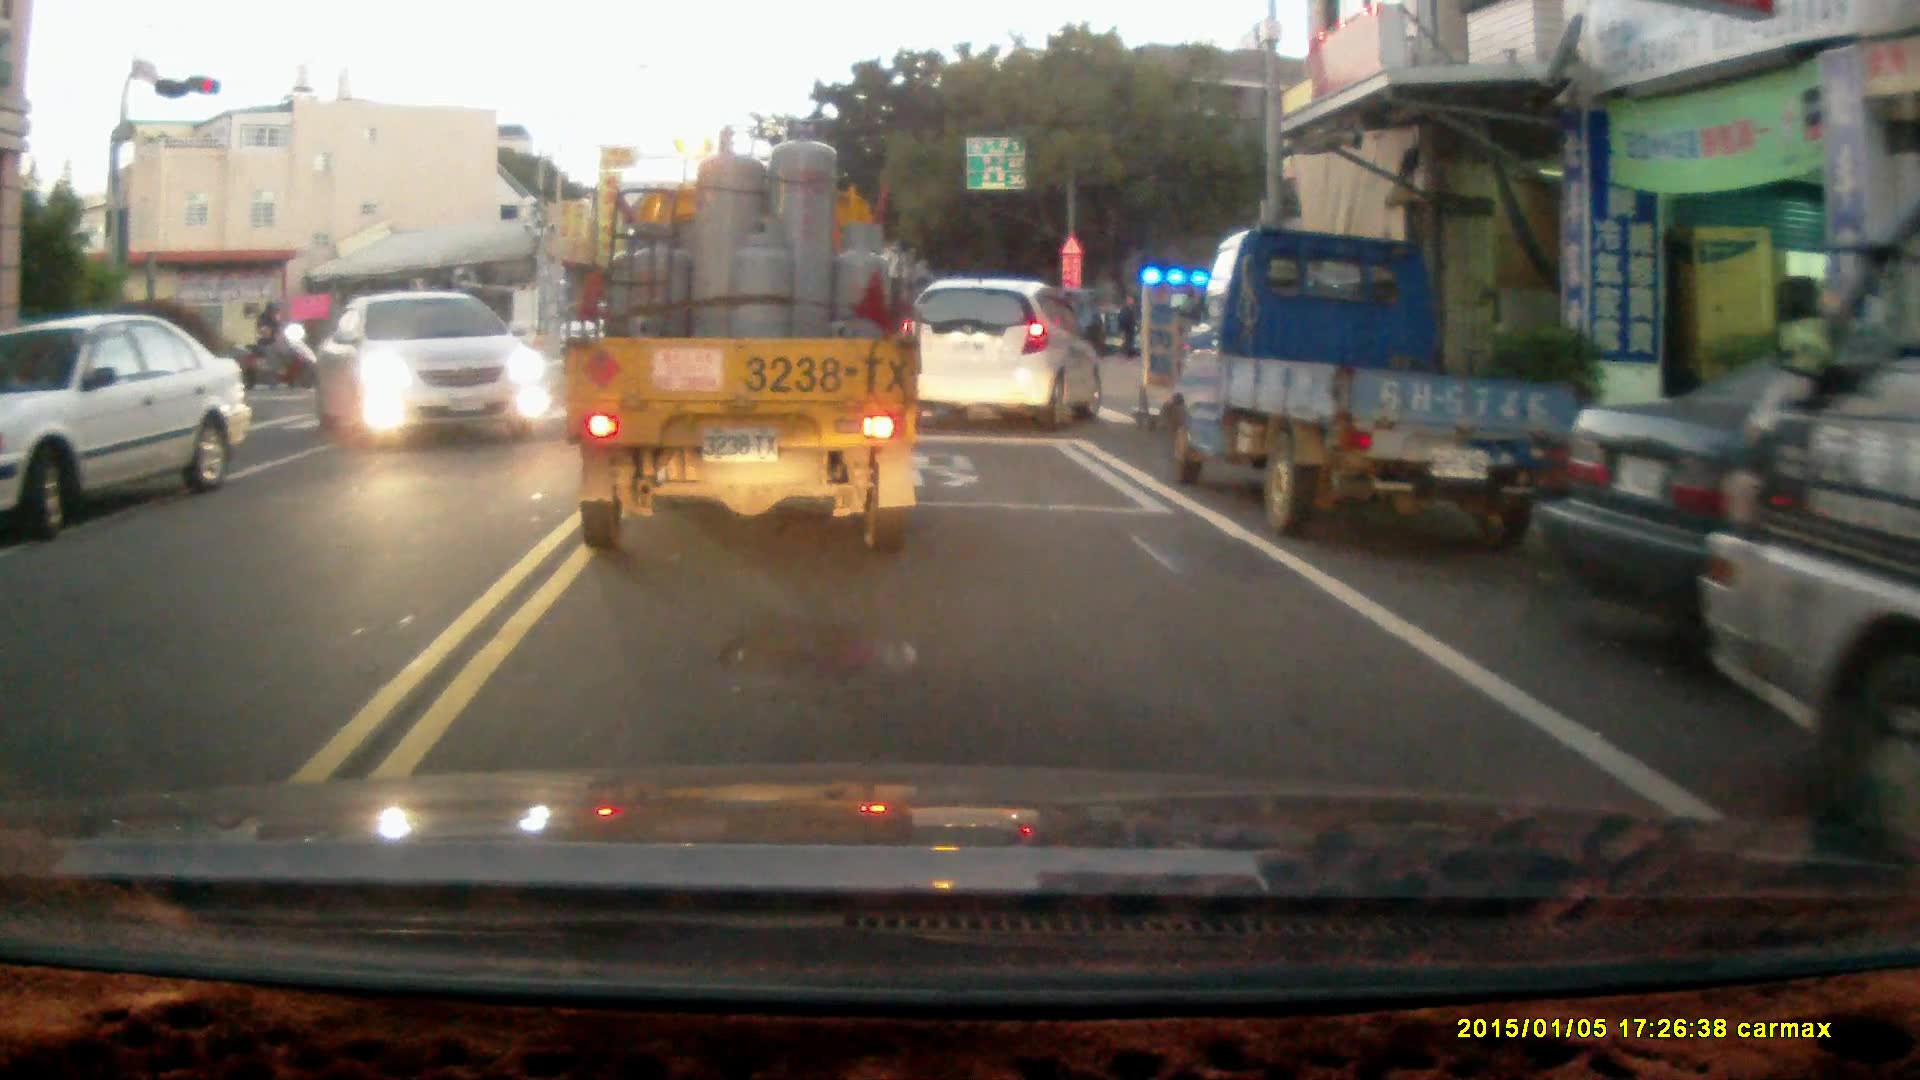rider: (232, 300, 316, 391)
vehicle: (562, 115, 925, 553), (1696, 184, 1920, 810), (1179, 227, 1578, 551), (1, 316, 249, 525), (309, 290, 550, 442), (905, 278, 1113, 428)
